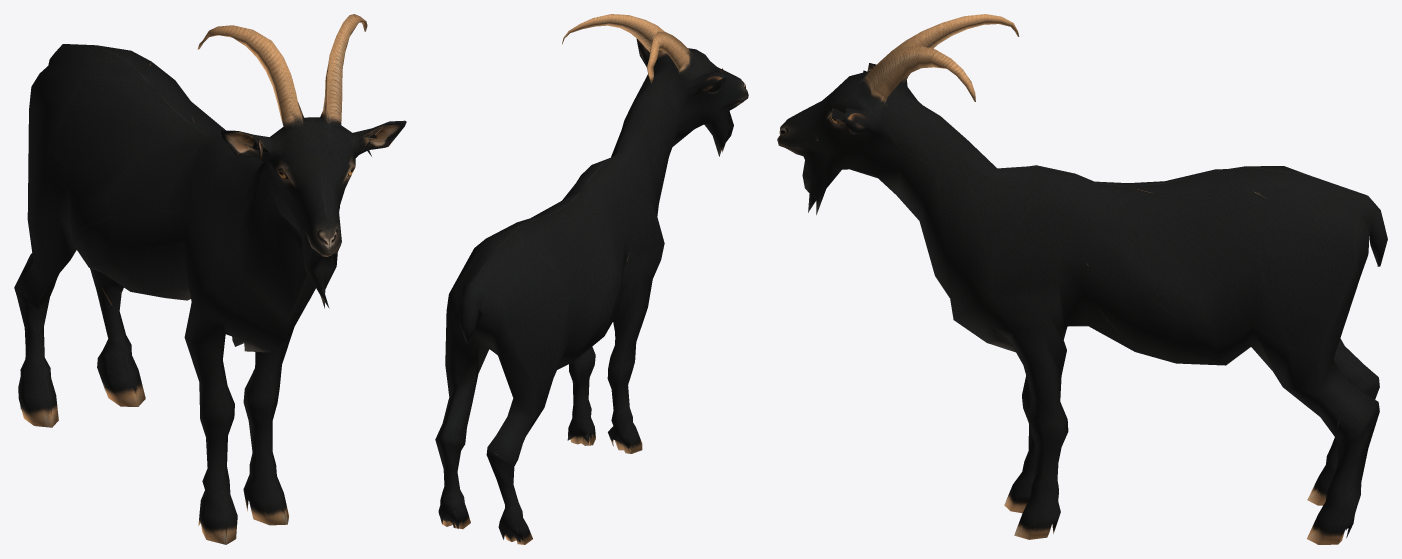
Rendered from keci.glb.
3 renders of one model, left to right at view 1: azimuth 30°, elevation 25°; view 2: azimuth 150°, elevation 25°; view 3: azimuth 270°, elevation 25°, orthographic. The views are drawn at different scales.
Bounding box in the file's own units: 0.3091 × 0.8545 × 0.9614.
1 material, 1 textured.
